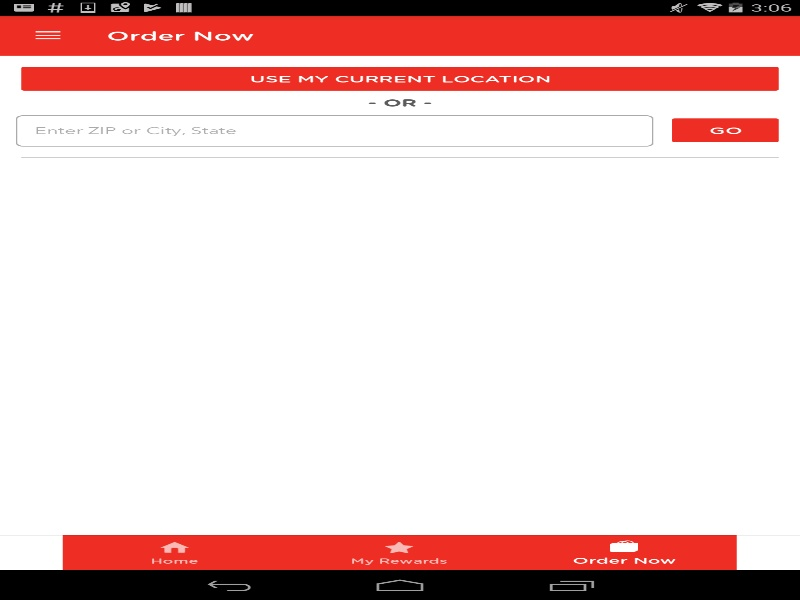Button: (16, 63, 784, 94), (666, 114, 784, 145), (10, 15, 85, 55)
Input: (16, 115, 653, 146)
